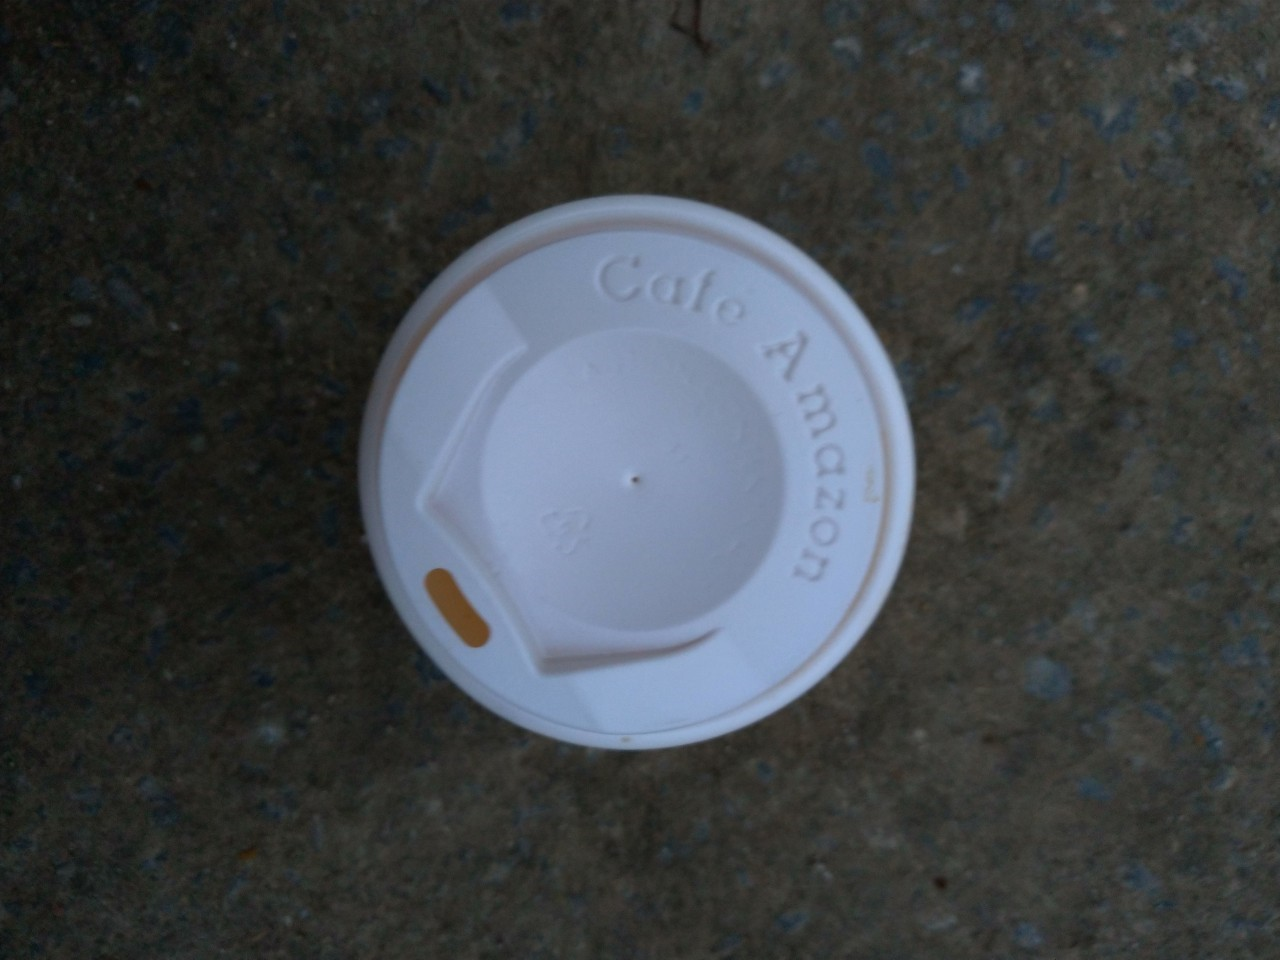PaperCup: (358, 205, 917, 733)
